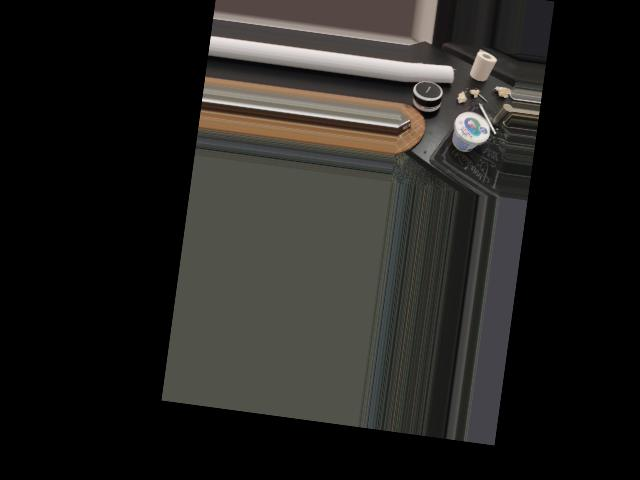cotage: (452, 112, 492, 157)
